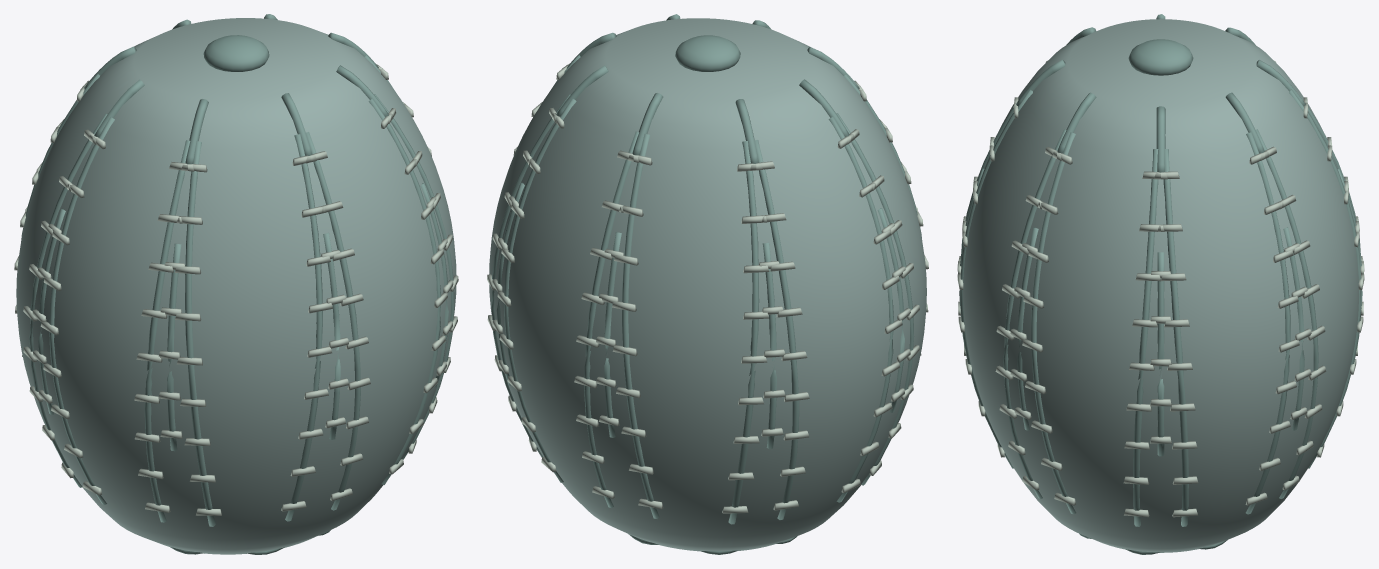
File: ctenorhabdotus.glb
The picture shows the model from 3 angles, left to right: view 1: azimuth 30°, elevation 25°; view 2: azimuth 150°, elevation 25°; view 3: azimuth 270°, elevation 25°; orthographic projection.
Parts seen in each view (by area): view 1: short ovoid barrel with flattened oral and aboral poles, eight convergent sets of three comb bands, simplified broad comb plate rhythm, subtle aboral capsule and oral margin; view 2: short ovoid barrel with flattened oral and aboral poles, eight convergent sets of three comb bands, simplified broad comb plate rhythm, subtle aboral capsule and oral margin; view 3: short ovoid barrel with flattened oral and aboral poles, eight convergent sets of three comb bands, simplified broad comb plate rhythm, subtle aboral capsule and oral margin.
Boxes of the visible parts, x1,y1,x2,y2 form: short ovoid barrel with flattened oral and aboral poles: (16,18,456,554); eight convergent sets of three comb bands: (21,14,454,526); simplified broad comb plate rhythm: (14,64,458,515); subtle aboral capsule and oral margin: (170,35,330,554); short ovoid barrel with flattened oral and aboral poles: (489,18,926,551); eight convergent sets of three comb bands: (491,14,921,524); simplified broad comb plate rhythm: (487,63,928,513); subtle aboral capsule and oral margin: (628,35,797,554); short ovoid barrel with flattened oral and aboral poles: (963,19,1358,552); eight convergent sets of three comb bands: (959,14,1362,526); simplified broad comb plate rhythm: (957,60,1364,517); subtle aboral capsule and oral margin: (1079,39,1227,554).
Size of the model in its own units: 0.0459 by 0.0523 by 0.0413.
